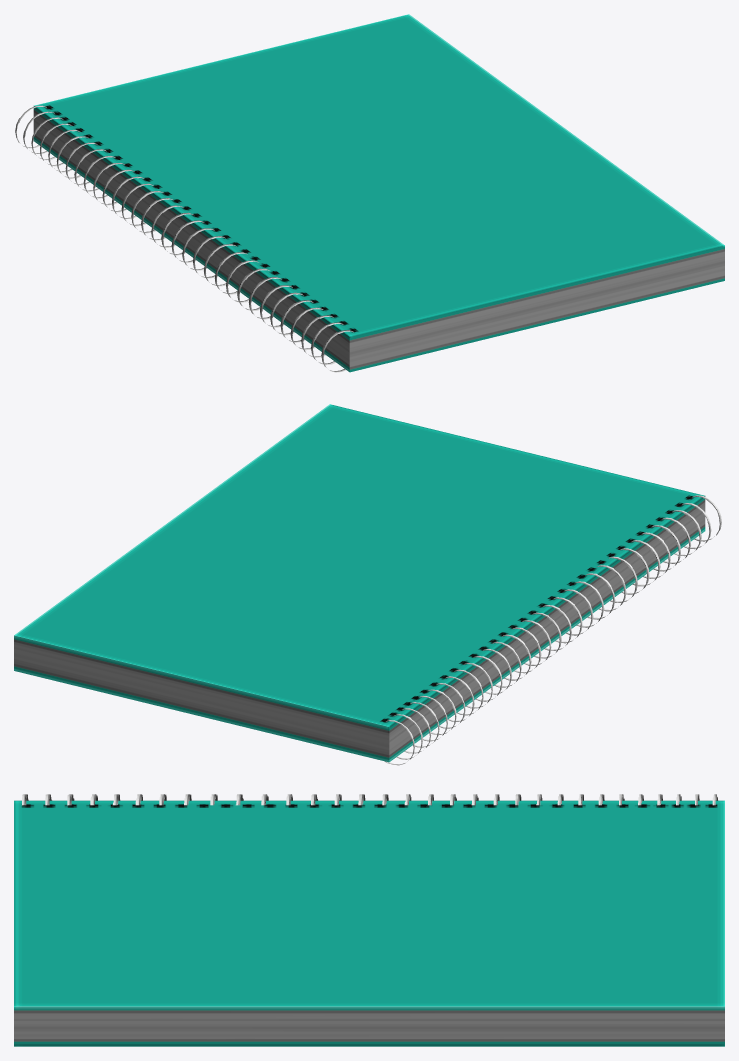
Rendered from Notepad.fbx.
The picture shows the model from 3 angles, top to bottom: view 1: azimuth 30°, elevation 25°; view 2: azimuth 150°, elevation 25°; view 3: azimuth 270°, elevation 25°; orthographic projection. The views are drawn at different scales.
Parts seen in each view (by area): view 1: notepad_top, notepad_bottom, Notepad; view 2: notepad_top, notepad_bottom, Notepad; view 3: notepad_top, notepad_bottom, Notepad.
Boxes of the visible parts, x1=… form: notepad_top: x1=33, y1=14, x2=724, y2=350; notepad_bottom: x1=33, y1=119, x2=724, y2=372; Notepad: x1=15, y1=105, x2=353, y2=372; notepad_top: x1=14, y1=404, x2=705, y2=740; notepad_bottom: x1=14, y1=509, x2=705, y2=762; Notepad: x1=385, y1=495, x2=721, y2=765; notepad_top: x1=14, y1=800, x2=724, y2=1021; notepad_bottom: x1=14, y1=1021, x2=724, y2=1046; Notepad: x1=22, y1=794, x2=717, y2=805.
Size of the model in its own units: 26.43 by 2.67 by 36.46.
